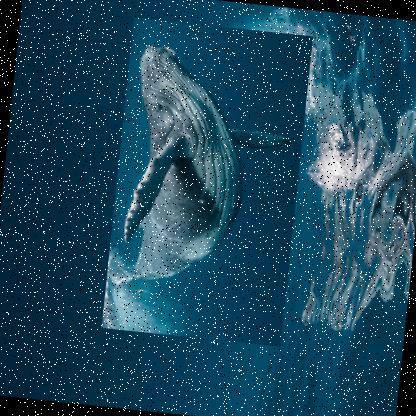blue_whale: (99, 16, 312, 346)
